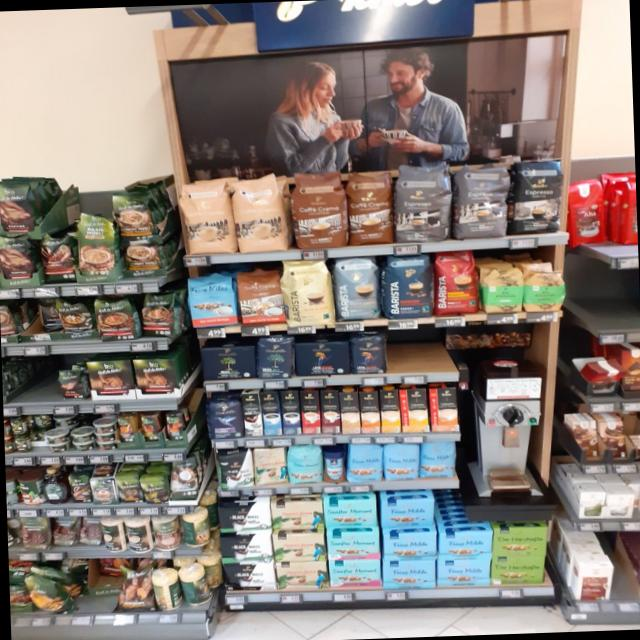Athiopien Bohne: (524, 268, 566, 312)
Athiopien Gemahlen: (482, 266, 524, 314)
BM Bohne: (256, 334, 294, 380)
BM Gemahlen: (200, 346, 256, 382)
BW Bohne: (214, 451, 254, 492)
BW Gemahlen: (218, 504, 272, 536), (220, 534, 272, 566), (222, 562, 276, 592)
Barista CB: (282, 259, 335, 328)
Barista CC: (334, 256, 381, 322)
Barista Espresso: (383, 253, 435, 320)
Barista Kolumbien: (433, 250, 480, 317)
C Fino Bohne: (205, 396, 242, 439)
CC Mild: (231, 176, 287, 252), (178, 182, 235, 254)
CC Vollmundig: (234, 267, 284, 324)
CC Vollmundig 36 Pads: (292, 168, 346, 248), (348, 169, 394, 245)
Colombia BB Bohne: (253, 448, 287, 487)
Colombia BB Gemahlen: (270, 500, 326, 533), (276, 560, 330, 590), (272, 532, 326, 562)
Empty Shelf: (388, 328, 456, 373)
Espresso Aromatisch: (452, 160, 510, 238), (395, 163, 452, 242)
Espresso Kraftig: (512, 157, 566, 234)
FM 36 Pads: (186, 272, 238, 328)
FM Bohne: (347, 442, 382, 485), (420, 441, 458, 479), (384, 442, 419, 482)
FM Gemahlen: (437, 529, 493, 560), (438, 556, 492, 588), (382, 558, 436, 590), (380, 498, 434, 530), (384, 532, 436, 562)
FM Instant: (322, 448, 346, 483)
Herzhatfe Mundig: (492, 524, 548, 558), (491, 556, 546, 584)
LG Bohne: (348, 332, 387, 375)
LG Gemahlen: (294, 341, 349, 376)
SM Bohne: (287, 446, 324, 484)
SM Gemahlen: (323, 498, 378, 530), (328, 558, 381, 590), (326, 530, 380, 560)
Simo CCMild: (399, 389, 428, 432)
Simo CCMild bigpack: (380, 388, 400, 432)
Simo CCVollmundig: (428, 387, 458, 432)
Simo CCVollmundig bigpack: (359, 391, 380, 434)
Simo Decaff: (340, 391, 360, 434)
Simo Es Brazil: (300, 390, 321, 434)
Simo Es Caramel: (320, 389, 340, 434)
Simo Es Elegant: (241, 392, 262, 437)
Simo Es Kraft: (280, 390, 300, 435)
Simo Es Vanilla: (260, 392, 282, 436)
